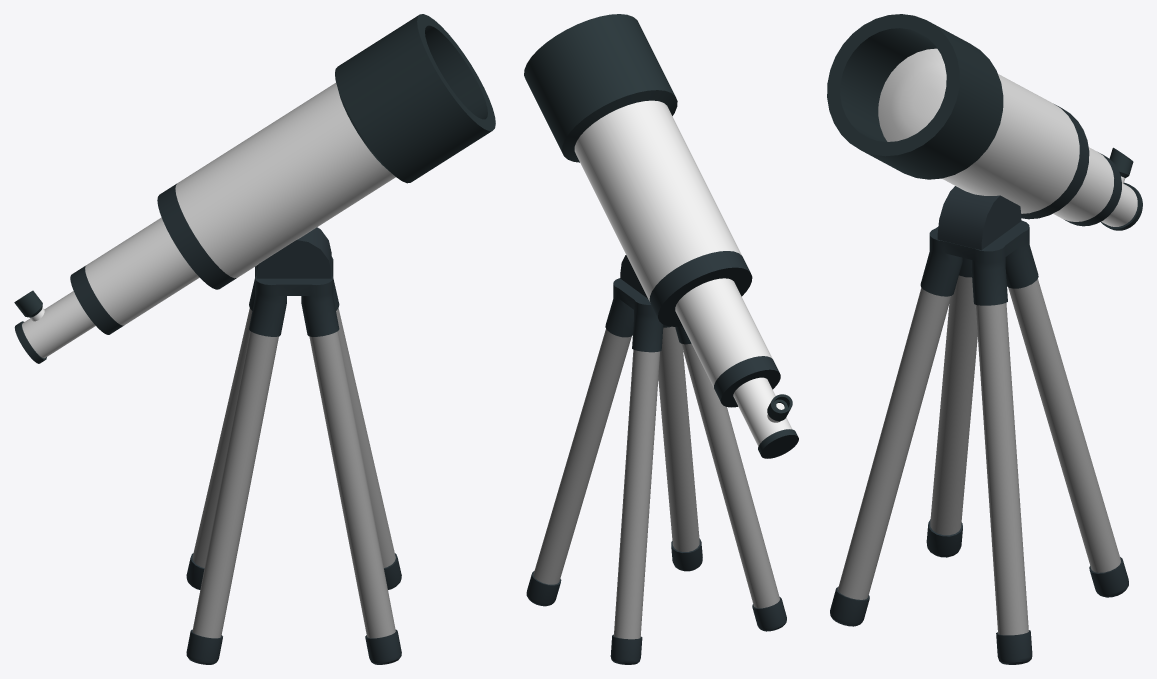
File: telescope.glb
3 views of the same model, side by side, from view 1: azimuth 30°, elevation 25°; view 2: azimuth 150°, elevation 25°; view 3: azimuth 270°, elevation 25° (orthographic). The views are drawn at different scales.
Visible parts, largest first — view 1: Cylinder.512, Circle.2597, Cylinder.513; view 2: Cylinder.512, Circle.2597, Cylinder.513; view 3: Circle.2597, Cylinder.512, Cylinder.513.
Boxes of the visible parts, x1,y1,x2,y2 form: Cylinder.512: (14, 14, 495, 363); Circle.2597: (186, 256, 401, 664); Cylinder.513: (256, 227, 331, 278); Cylinder.512: (524, 14, 798, 458); Circle.2597: (526, 278, 786, 664); Cylinder.513: (620, 255, 647, 298); Circle.2597: (830, 220, 1128, 664); Cylinder.512: (827, 14, 1142, 230); Cylinder.513: (937, 186, 1021, 250).
Size of the model in its own units: 1.44 by 2.21 by 0.9863.
Materials: 1 (1 with a texture image).
